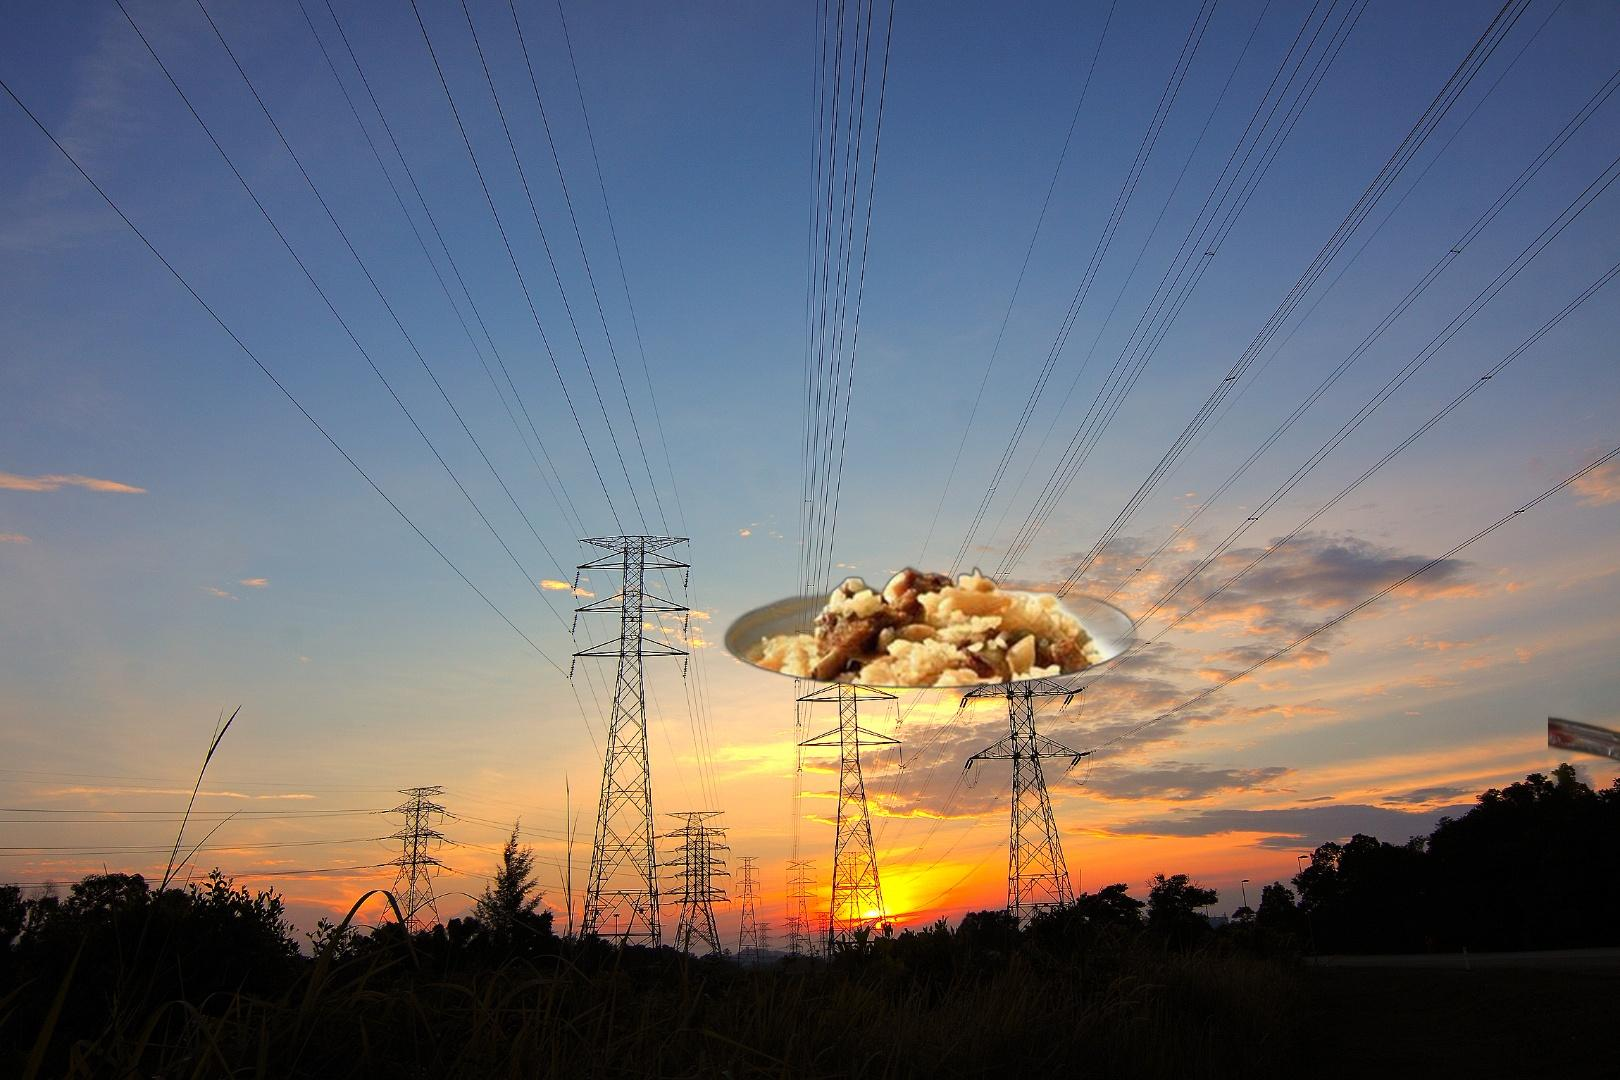biological: (715, 563, 1150, 691), (1548, 583, 1620, 1033)
